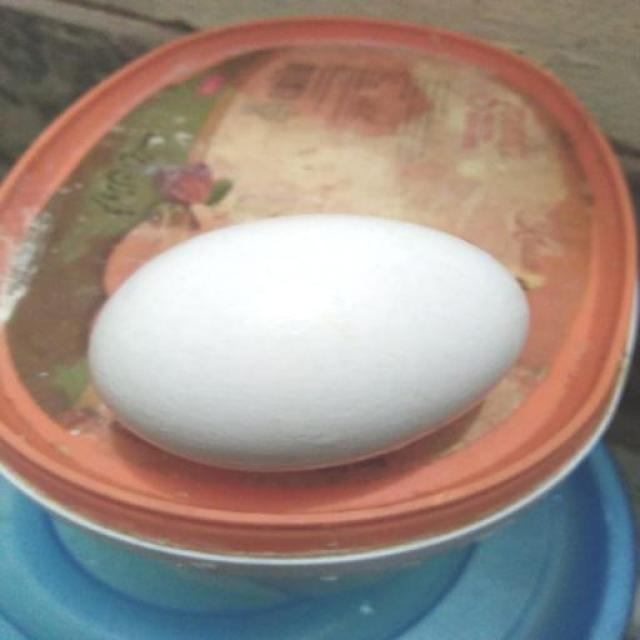telur: (91, 214, 527, 472)
